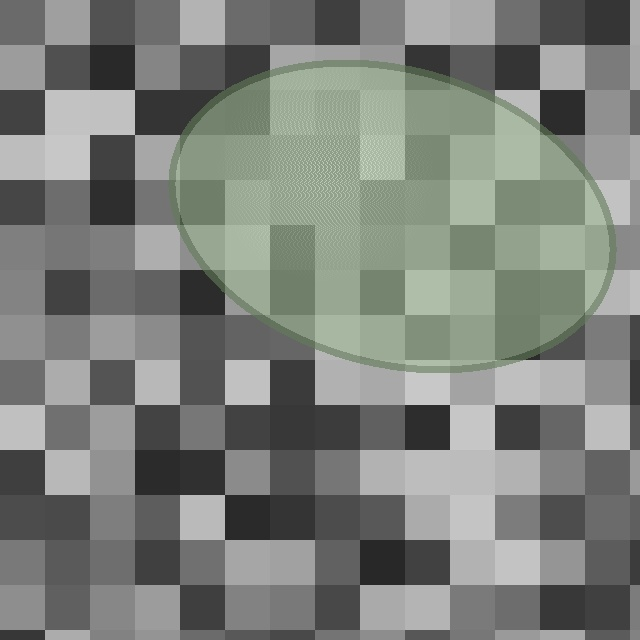lens: (172, 64, 612, 368)
